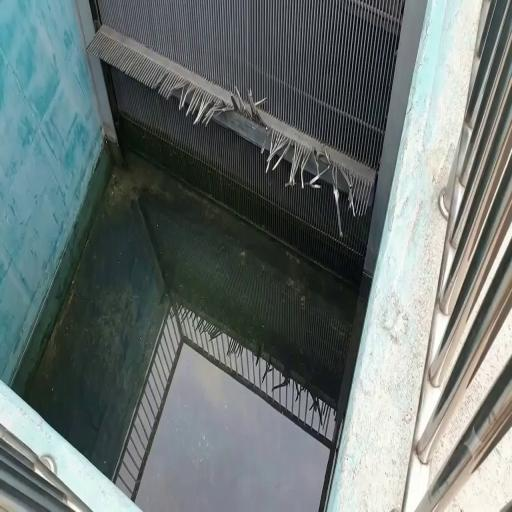rake_broken: (329, 158, 374, 244), (212, 76, 276, 135), (179, 80, 224, 139), (297, 132, 332, 198), (169, 62, 203, 118), (263, 120, 296, 177), (147, 62, 176, 100)
